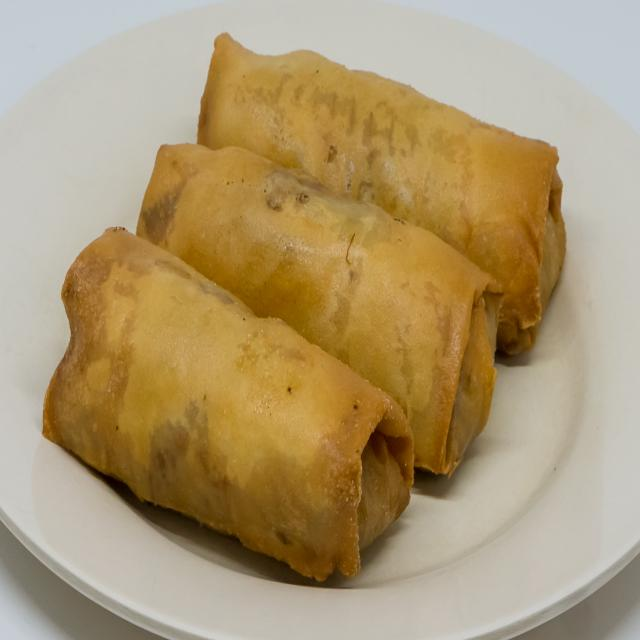Lumpia-Semarang: (39, 15, 576, 605)
